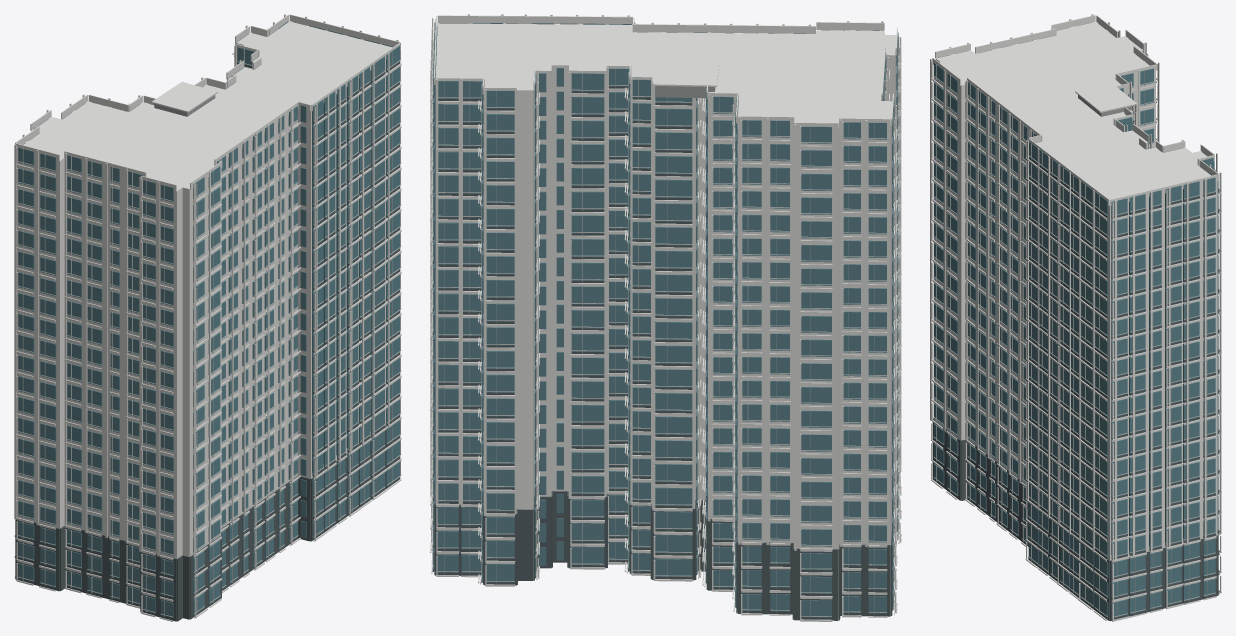
Rendered from bespoke-acro-riverpark-100.glb.
3 renders of one model, left to right at view 1: azimuth 30°, elevation 25°; view 2: azimuth 150°, elevation 25°; view 3: azimuth 270°, elevation 25°, orthographic. The views are drawn at different scales.
Parts seen in each view (by area): view 1: 100_Warm_pale_architectural_planes001, 100_Blue_grey_glazing001, 100_Charcoal_stone_lower_storeys001, 100_Silver_glazing_mullions001; view 2: 100_Warm_pale_architectural_planes001, 100_Blue_grey_glazing001, 100_Charcoal_stone_lower_storeys001, 100_Silver_glazing_mullions001, 100_Roof_equipment001; view 3: 100_Warm_pale_architectural_planes001, 100_Blue_grey_glazing001, 100_Silver_glazing_mullions001, 100_Charcoal_stone_lower_storeys001.
Part boxes in pixels (<box>): 100_Warm_pale_architectural_planes001: <box>14,14,401,621</box>; 100_Blue_grey_glazing001: <box>18,21,399,617</box>; 100_Charcoal_stone_lower_storeys001: <box>15,61,400,621</box>; 100_Silver_glazing_mullions001: <box>18,49,400,617</box>; 100_Warm_pale_architectural_planes001: <box>430,14,901,621</box>; 100_Blue_grey_glazing001: <box>433,19,898,617</box>; 100_Charcoal_stone_lower_storeys001: <box>432,86,896,620</box>; 100_Silver_glazing_mullions001: <box>432,22,899,618</box>; 100_Roof_equipment001: <box>655,86,715,98</box>; 100_Warm_pale_architectural_planes001: <box>930,14,1221,621</box>; 100_Blue_grey_glazing001: <box>934,22,1218,618</box>; 100_Silver_glazing_mullions001: <box>933,64,1219,617</box>; 100_Charcoal_stone_lower_storeys001: <box>932,121,1219,621</box>.
Bounding box in the file's own units: 70.5 × 74 × 46.43.
